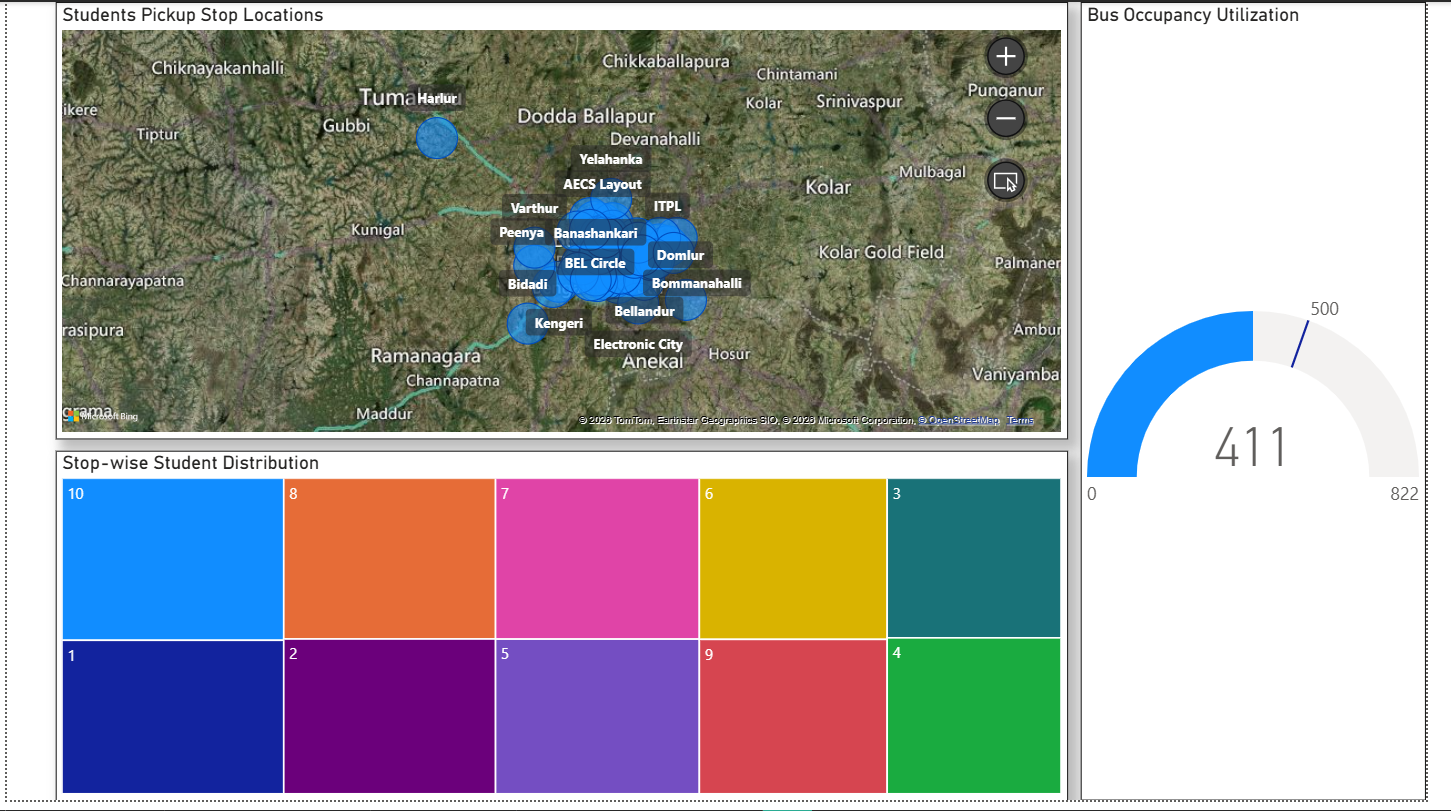

Layout of this report page (visuals, bound fields, positions):
{"tool":"powerbi","page":{"name":"Route & Map Analytics","canvas":[1280,720],"ordinal":1},"visuals":[{"type":"map","title":"Students Pickup Stop Locations","fields":{"Category":["Student_Details.PICK_UP_STOP"]},"box":[44.3,0,912.9,394.3],"z":0},{"type":"treemap","title":"Stop-wise Student Distribution","fields":{"Group":["Student_Details.BUS_NO"],"Values":["CountNonNull(Student_Details.STUDENT_ID)"]},"box":[44.3,404.3,912.9,315.7],"z":1000},{"type":"gauge","title":"Bus Occupancy Utilization","fields":{"Y":["Bus_Details.Boarded Students"],"TargetValue":["Bus_Details.Total Students"]},"box":[968.6,0,311.4,720],"z":2000}]}

Visuals, with their boxes in screenshot pixels (x1, y1, x2, y2), scaled from the page's 1280x720 canvas onto the 1451x811 screenshot:
"Students Pickup Stop Locations" map: {"left": 50, "top": 0, "right": 1085, "bottom": 444}
"Stop-wise Student Distribution" treemap: {"left": 50, "top": 455, "right": 1085, "bottom": 810}
"Bus Occupancy Utilization" gauge: {"left": 1098, "top": 0, "right": 1450, "bottom": 810}
